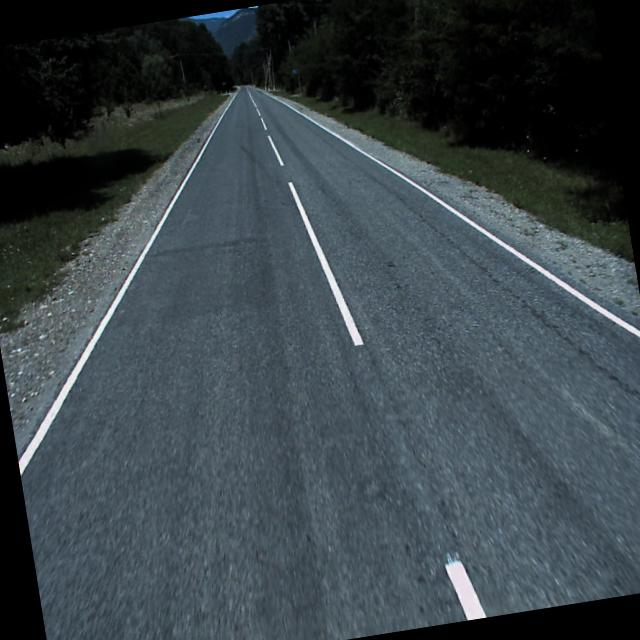road: (18, 85, 640, 640)
